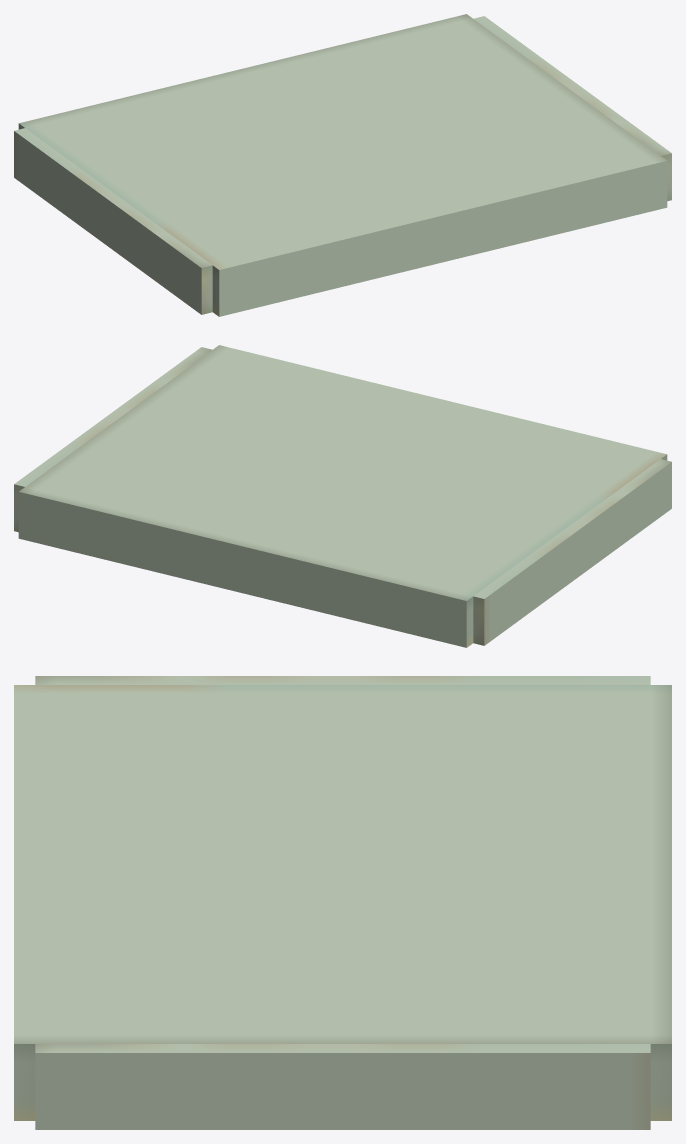
File: Mattress_B_00.fbx
3 renders of one model, top to bottom at view 1: azimuth 30°, elevation 25°; view 2: azimuth 150°, elevation 25°; view 3: azimuth 270°, elevation 25°, orthographic. The views are drawn at different scales.
Parts seen in each view (by area): view 1: Mattress_B_00; view 2: Mattress_B_00; view 3: Mattress_B_00.
Boxes of the visible parts, x1,y1,x2,y2 form: Mattress_B_00: (14, 14, 671, 316); Mattress_B_00: (14, 345, 671, 647); Mattress_B_00: (14, 676, 671, 1129).
Size of the model in its own units: 210 by 155 by 20.
Materials: 1 (1 with a texture image).
